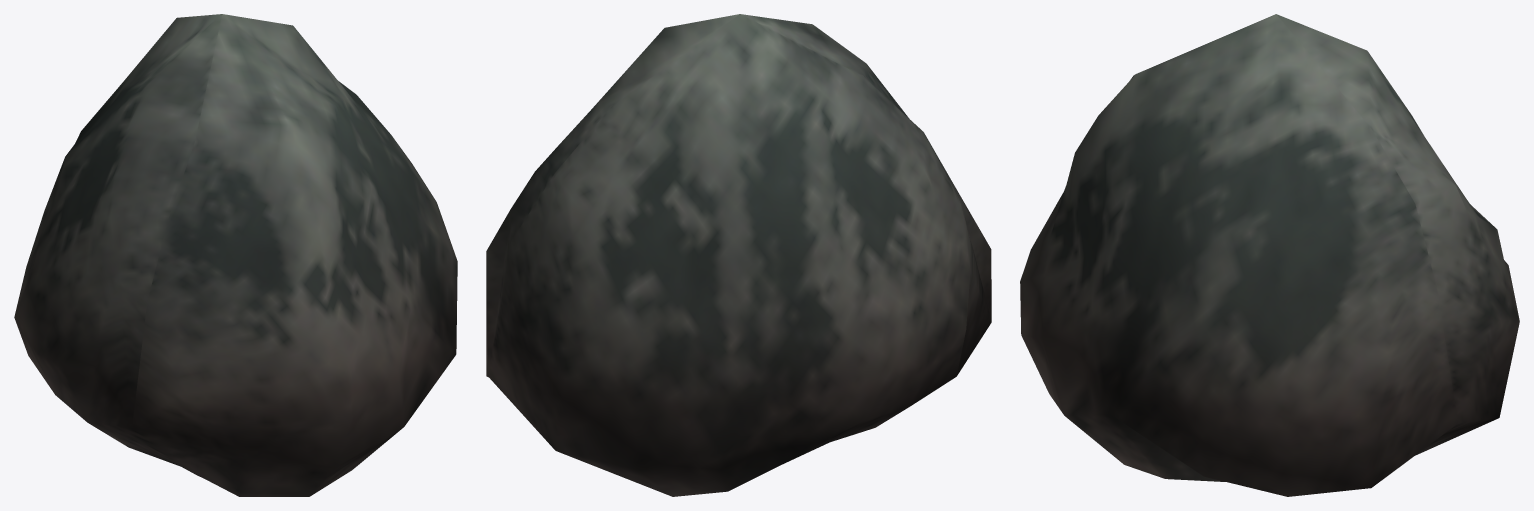
Rendered from Rock02.fbx.
3 renders of one model, left to right at view 1: azimuth 30°, elevation 25°; view 2: azimuth 150°, elevation 25°; view 3: azimuth 270°, elevation 25°, orthographic. The views are drawn at different scales.
Visible parts, largest first — view 1: rock.002_lp; view 2: rock.002_lp; view 3: rock.002_lp.
Boxes of the visible parts, x1,y1,x2,y2 form: rock.002_lp: [14, 14, 457, 496]; rock.002_lp: [486, 14, 991, 496]; rock.002_lp: [1020, 14, 1519, 496].
Bounding box in the file's own units: 35.55 × 36.7 × 37.09.
